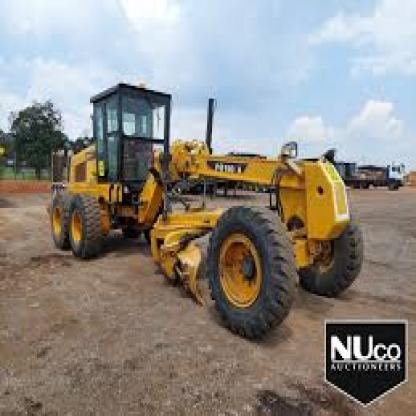bull_dozer/loader/grader: (42, 71, 374, 332)
